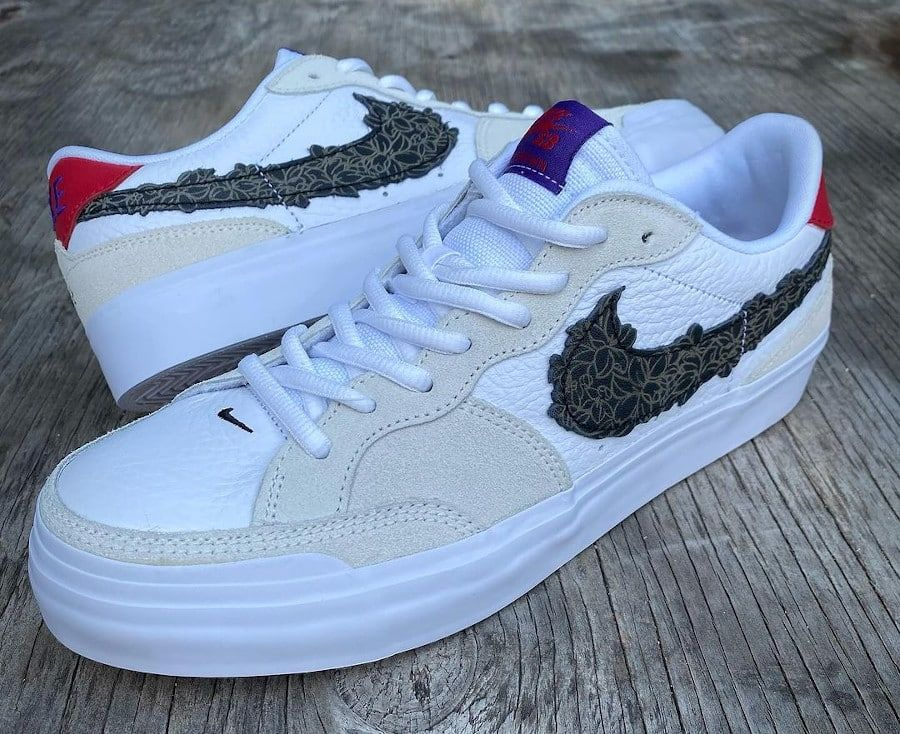nike_pogo_plus_japanese_roots: (20, 100, 833, 679), (1, 37, 560, 409)
